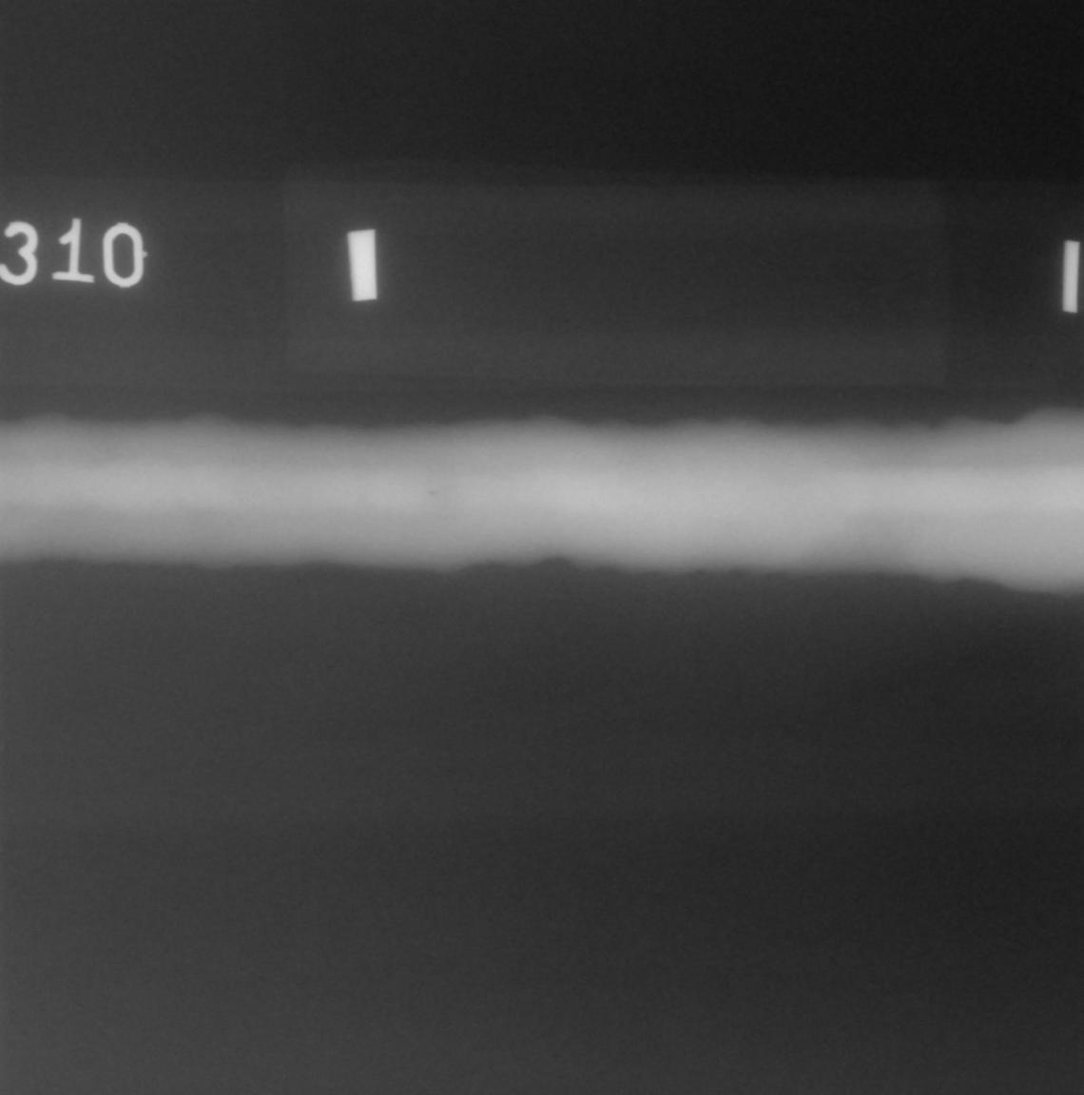Inclusion: (427, 491, 437, 495)
